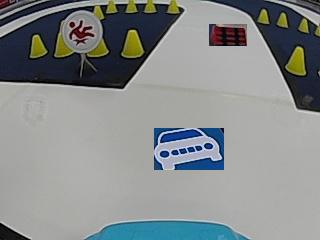cone: (284, 45, 306, 77), (121, 29, 144, 58), (53, 34, 72, 58), (28, 34, 46, 58), (88, 39, 109, 58), (256, 8, 269, 24), (276, 11, 288, 28), (124, 0, 137, 14), (93, 4, 104, 20), (167, 0, 179, 14), (144, 0, 156, 14), (298, 17, 308, 33), (106, 0, 117, 14)
tumble: (67, 14, 100, 48)
